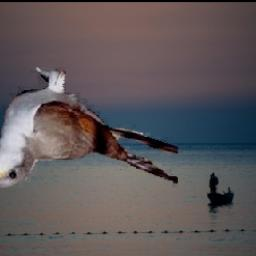Cuckoo: (0, 67, 179, 188)
